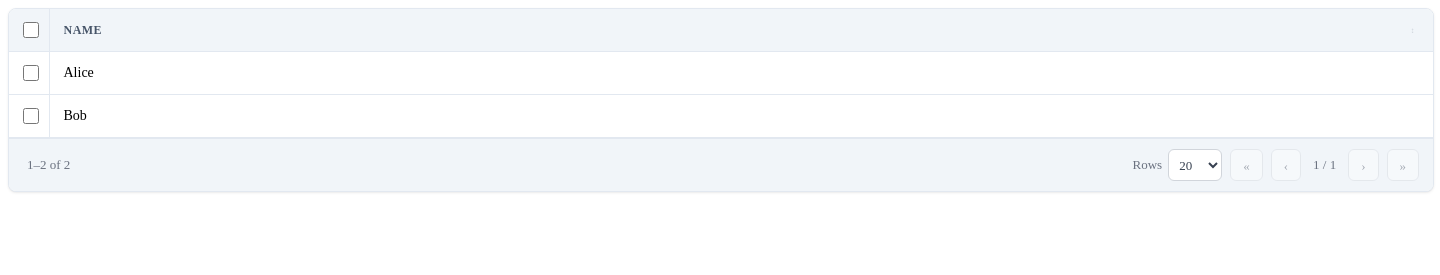
Test: DataGrid — toolbar › clears selection when the × button is clicked
Click the checkbox named "Select row" next to "Alice" at (31,73), box [23,65,39,81]
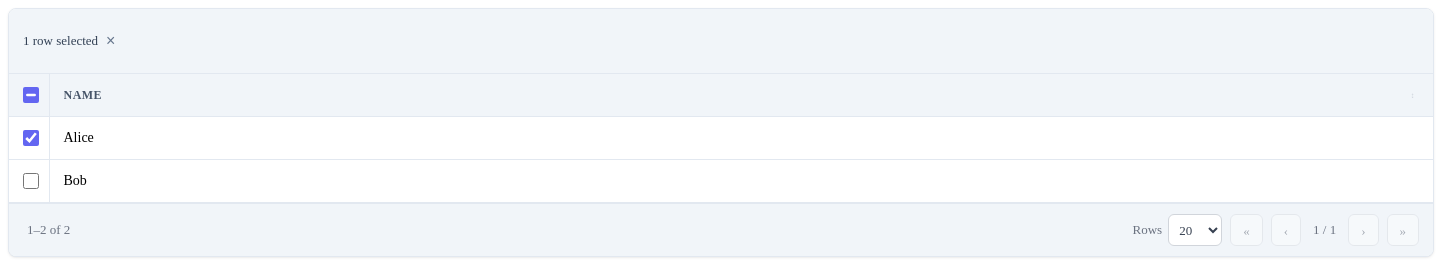
Click the button named "Clear selection" at (111,41), box [104,33,117,49]
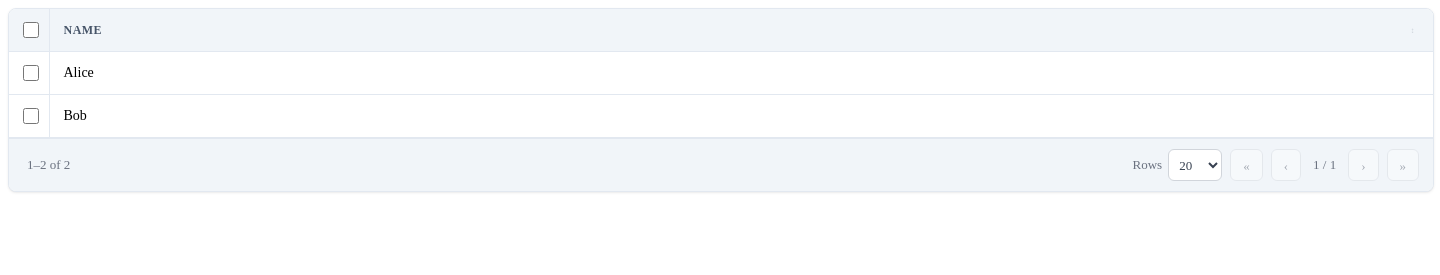
Now the text "row selected" is gone
